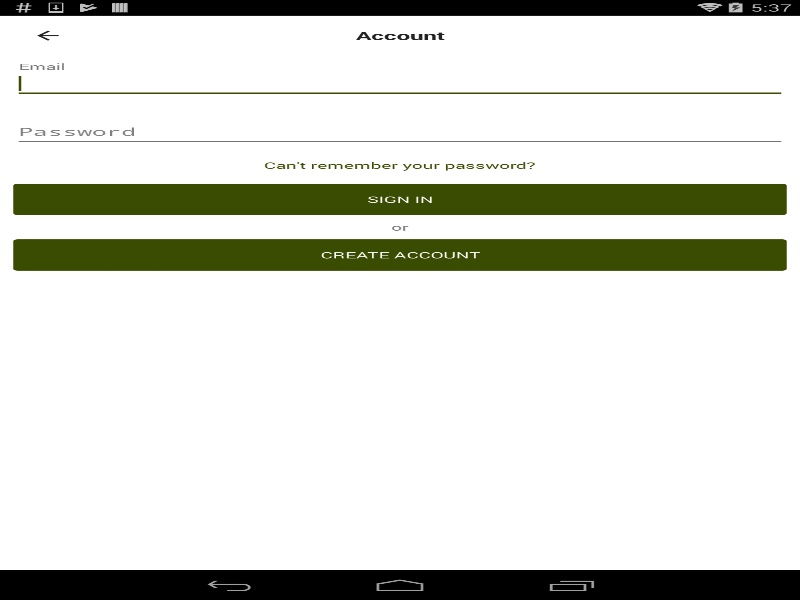Button: (13, 183, 786, 215), (13, 239, 786, 270), (10, 18, 85, 53)
Input: (13, 69, 786, 98), (13, 118, 786, 146)
